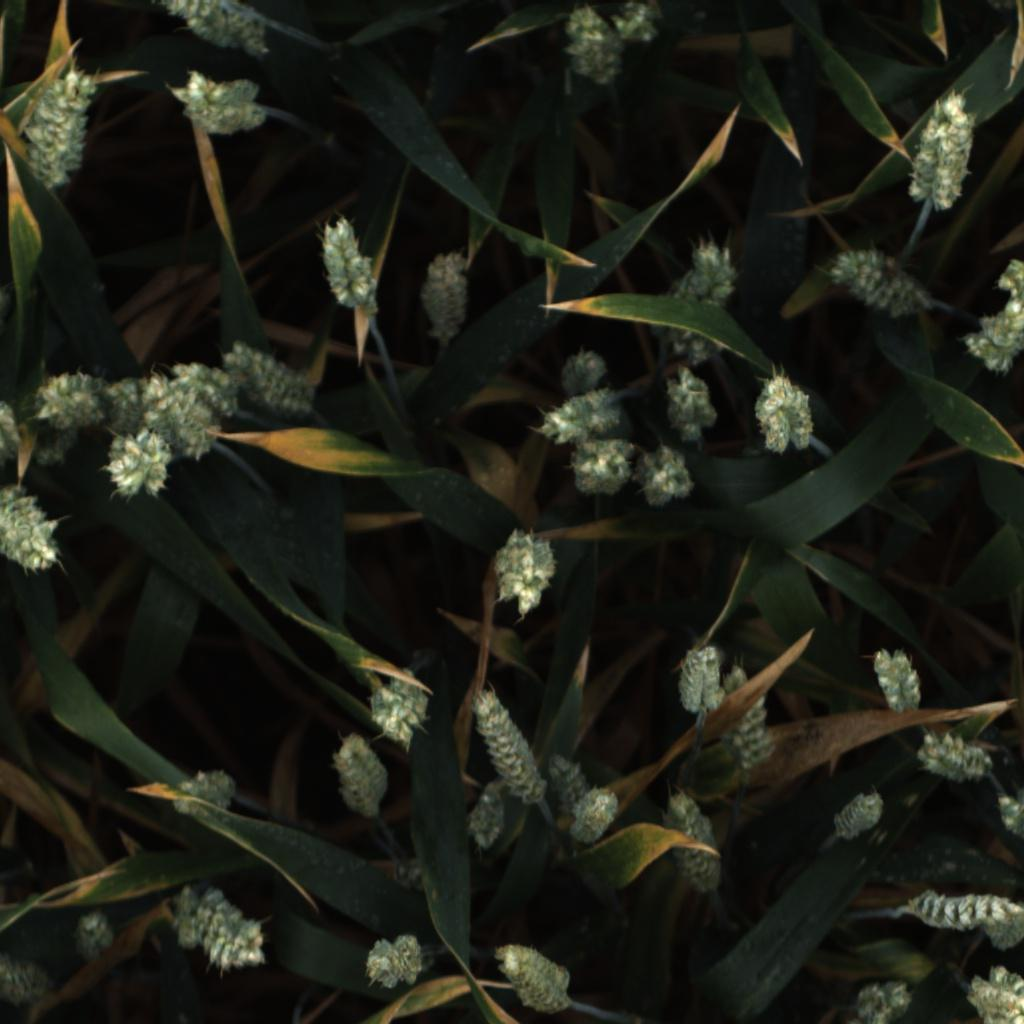0-0: (898, 85, 986, 221), (17, 62, 99, 192), (470, 681, 551, 810), (818, 244, 936, 323), (171, 881, 271, 974), (224, 336, 320, 422), (136, 373, 229, 461), (162, 71, 268, 144), (312, 213, 385, 317), (657, 785, 722, 897), (492, 935, 576, 1020), (490, 528, 563, 622), (902, 882, 1024, 937), (327, 729, 396, 826), (416, 246, 477, 352), (0, 486, 68, 581), (718, 663, 773, 775), (666, 233, 743, 313), (364, 665, 432, 752), (961, 289, 1024, 381), (559, 4, 629, 86), (751, 373, 817, 459), (103, 427, 177, 503), (530, 389, 633, 442), (560, 433, 640, 500), (184, 0, 270, 62), (31, 365, 109, 432), (160, 355, 241, 419), (363, 927, 433, 998), (910, 730, 999, 785), (626, 443, 696, 511), (865, 643, 927, 717), (168, 763, 250, 818), (550, 341, 616, 408), (673, 638, 724, 720), (823, 786, 891, 847), (566, 784, 630, 848), (665, 371, 720, 444), (64, 903, 127, 966), (464, 778, 516, 854), (542, 750, 600, 811), (852, 972, 918, 1023), (0, 948, 56, 1008), (665, 326, 728, 369), (102, 374, 148, 431), (28, 422, 79, 469), (608, 0, 663, 43), (994, 231, 1024, 305), (992, 775, 1024, 843), (0, 388, 27, 468), (984, 913, 1023, 954), (390, 860, 430, 894), (158, 0, 217, 20)
